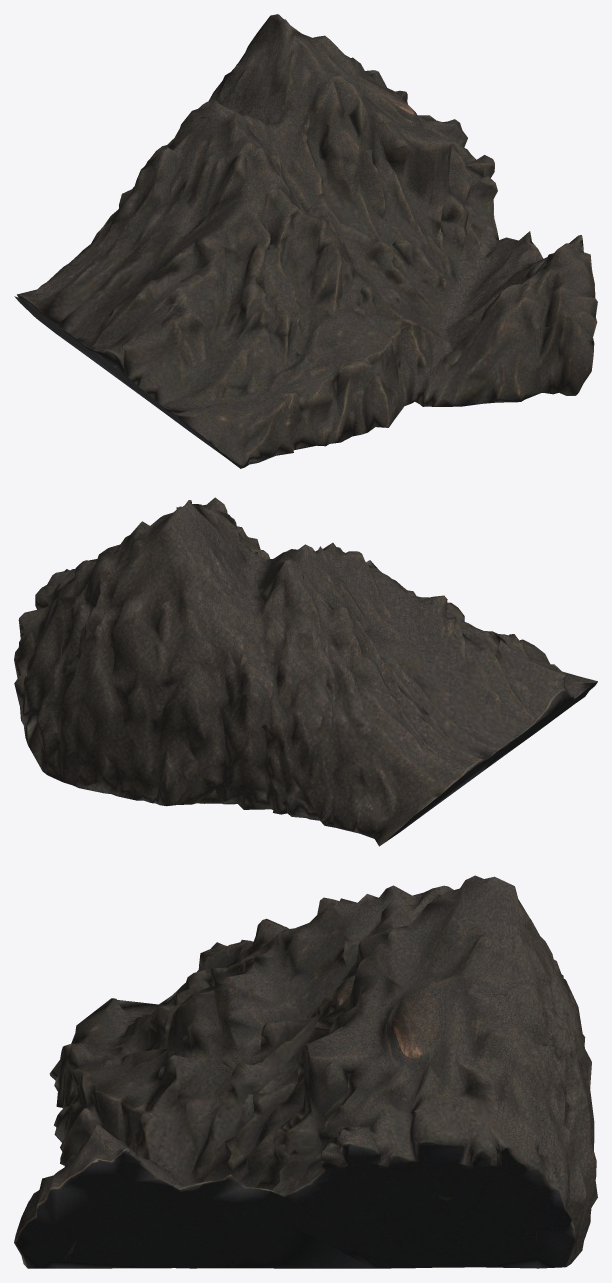
Rendered from ironcrownBackdropRidge.309261ea.glb.
3 views of the same model, one above another, from view 1: azimuth 30°, elevation 25°; view 2: azimuth 150°, elevation 25°; view 3: azimuth 270°, elevation 25° (orthographic). The views are drawn at different scales.
Size of the model in its own units: 1.9 by 1.14 by 1.84.
Materials: 1 (1 with a texture image).
